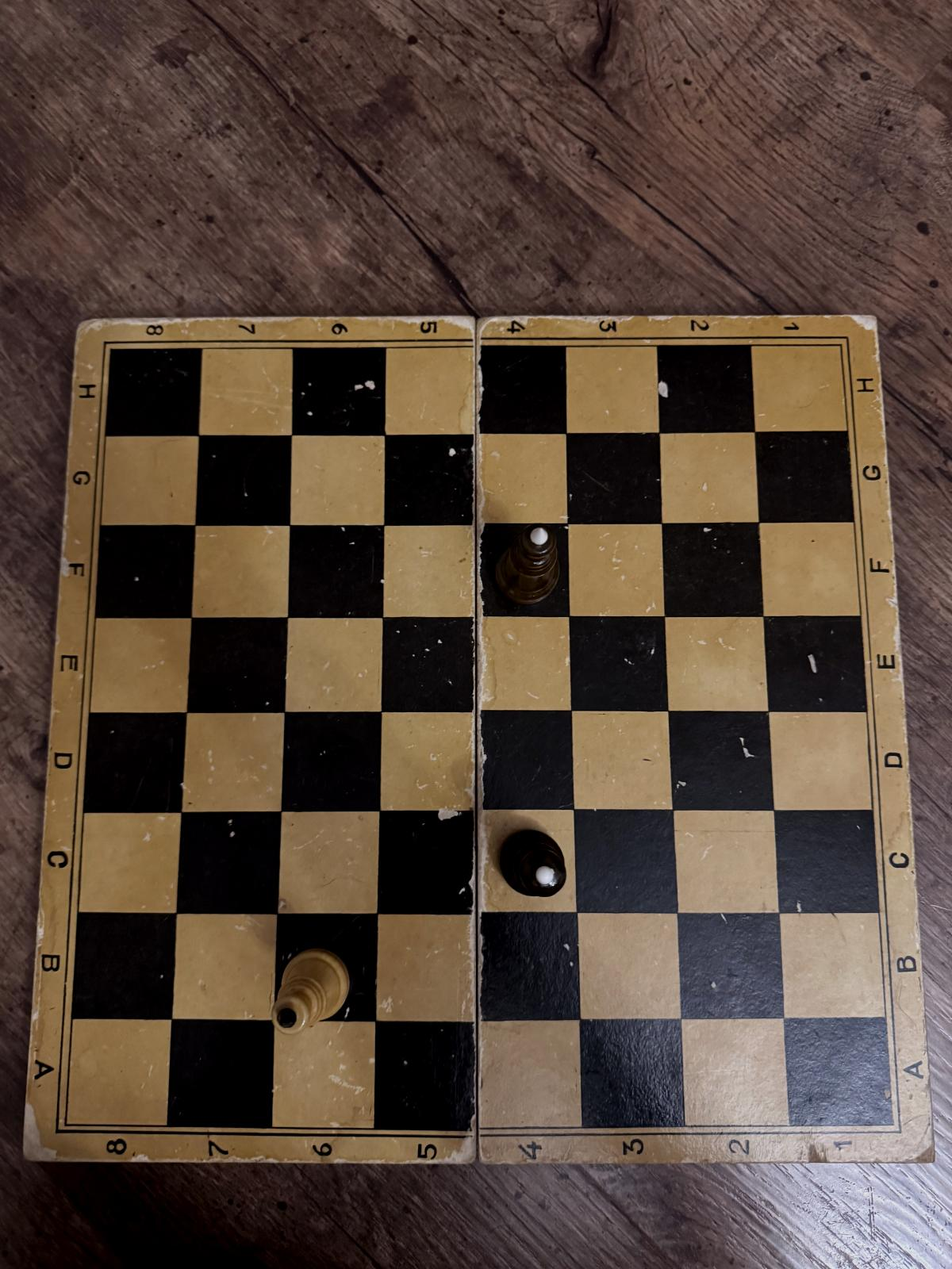Chess-Board: (66, 345, 893, 1125)
